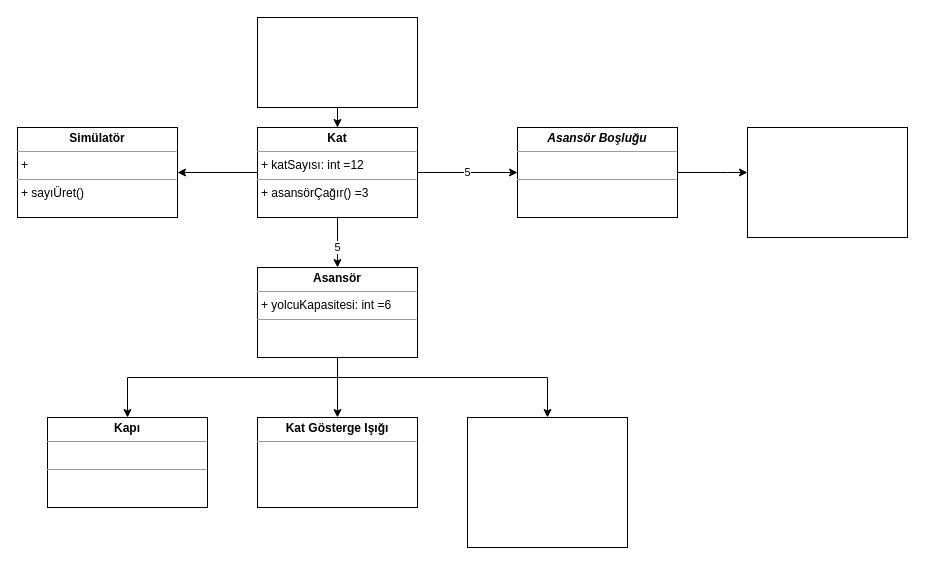
The diagram is 925 pixels wide and 565 high, and some of its shapes have lost their labels. Each missing label, with the centre of its shape:
Bina: the point at 337,62
Kapı + varışZili() +sinyalIşığı(): the point at 827,182
Kontrol Paneli + hedefDüğme() +kapıAçma() +kapıKapama() +AcilDurumSinyali(): the point at 547,482
